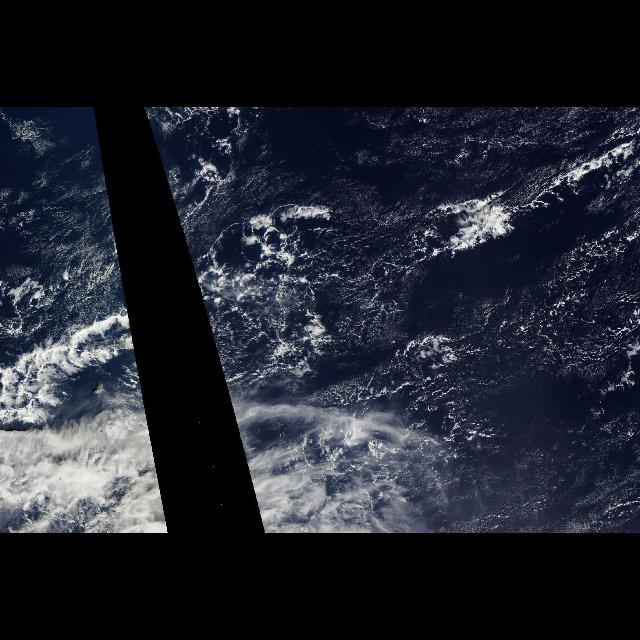Gravel: (146, 116, 636, 406), (2, 116, 146, 406), (310, 411, 636, 485)
Sugar: (385, 107, 619, 155)
